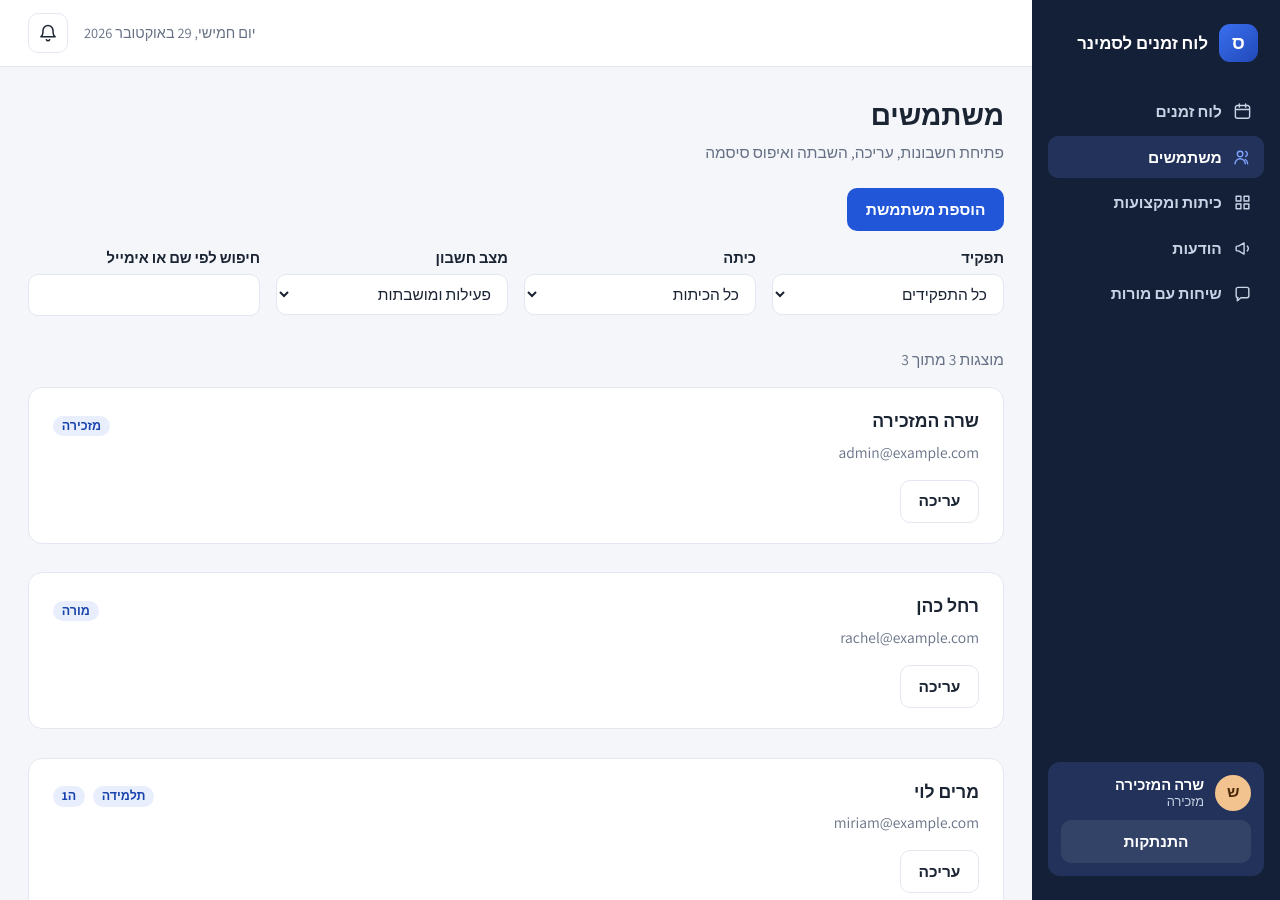
ניהול משתמשים › עריכה › עדכון פרטים, כיתה והשבתה
Expected: the heading "מרים לוי" is shown, [914, 778, 979, 805]
Click the button "עריכה" below "מרים לוי": click(939, 871) [900, 850, 979, 893]
(page scrolled)
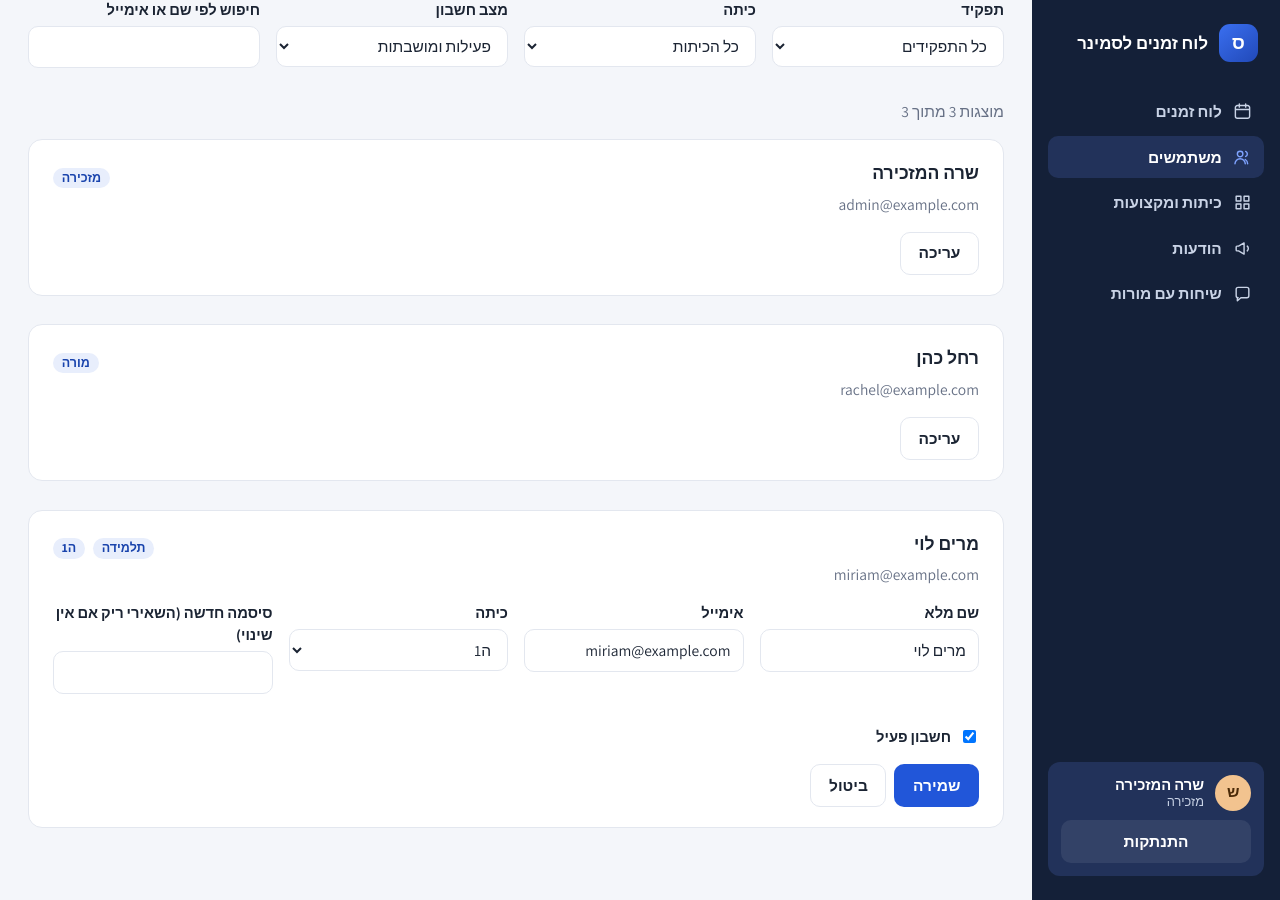
Expected: the field labelled "שם מלא" holds "מרים לוי"
Replace the text in the field labelled "שם מלא" with "מרים כהן": (869, 650) [760, 629, 979, 672]
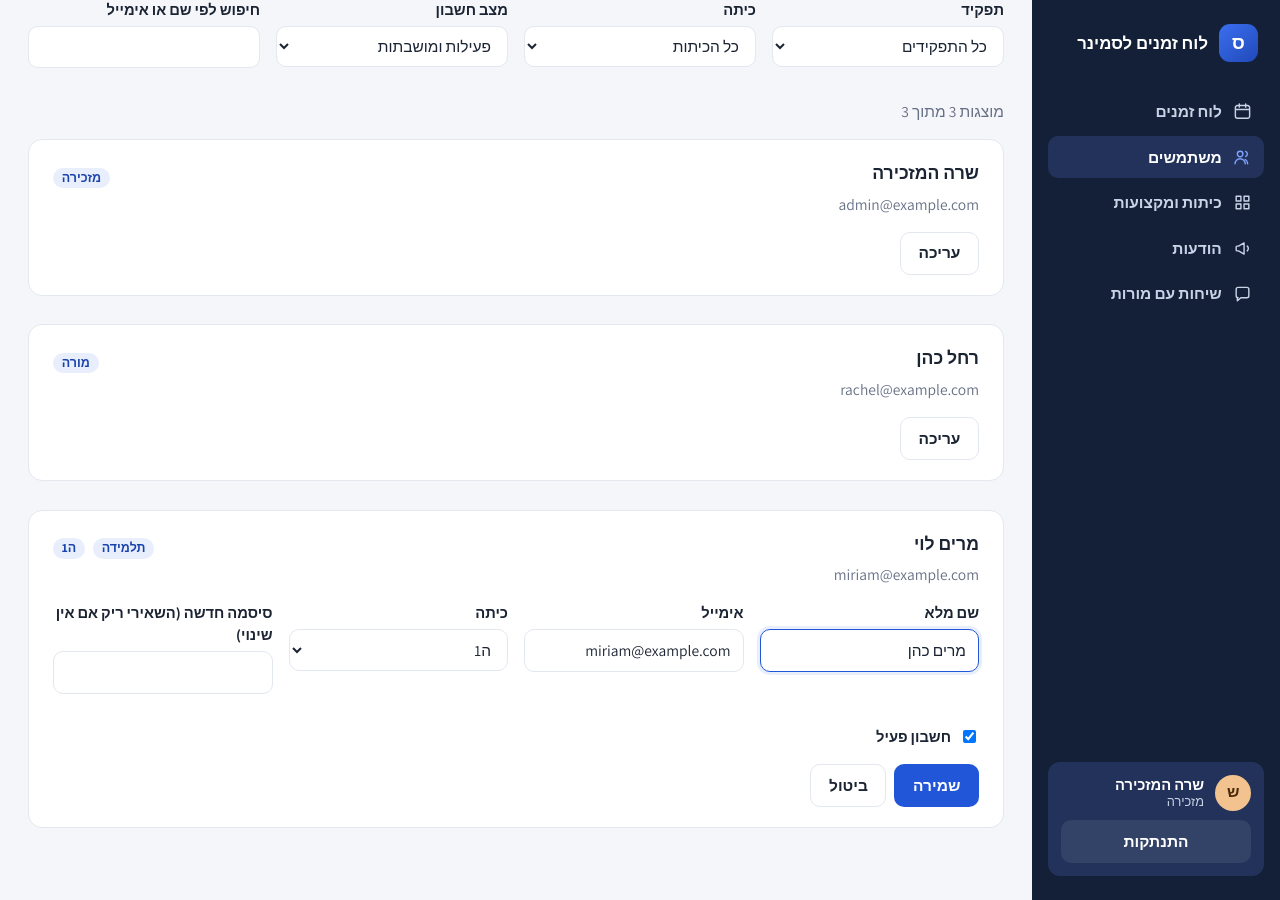
Select "ו1" in the dropdown labelled "כיתה" below "סיסמה חדשה (השאירי ריק אם אין שינוי)": (398, 650) [288, 629, 508, 670]
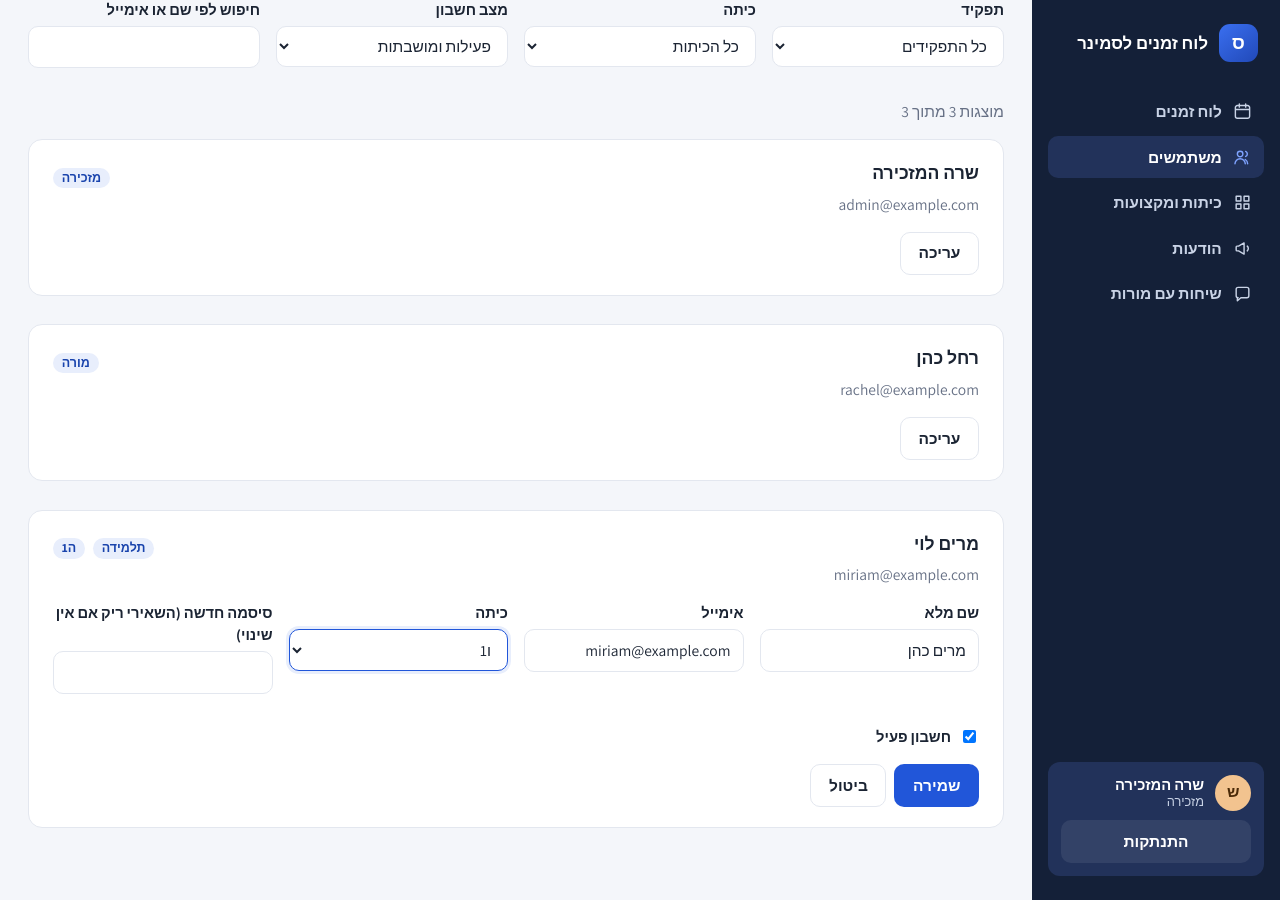
Click the checkbox labelled "חשבון פעיל": click(970, 737) [963, 730, 976, 743]
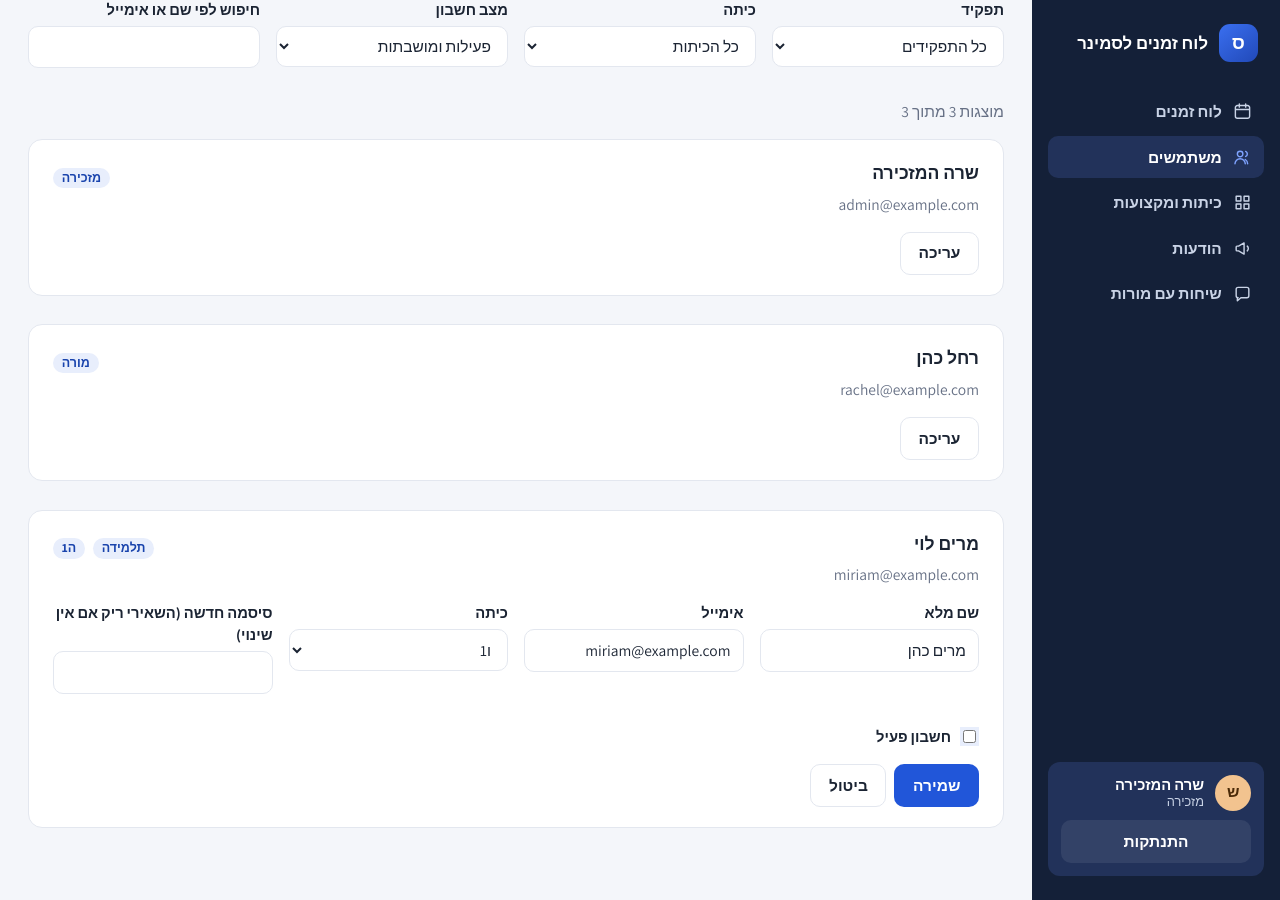
Click the button "שמירה": click(937, 785) [894, 764, 979, 807]
(page scrolled)
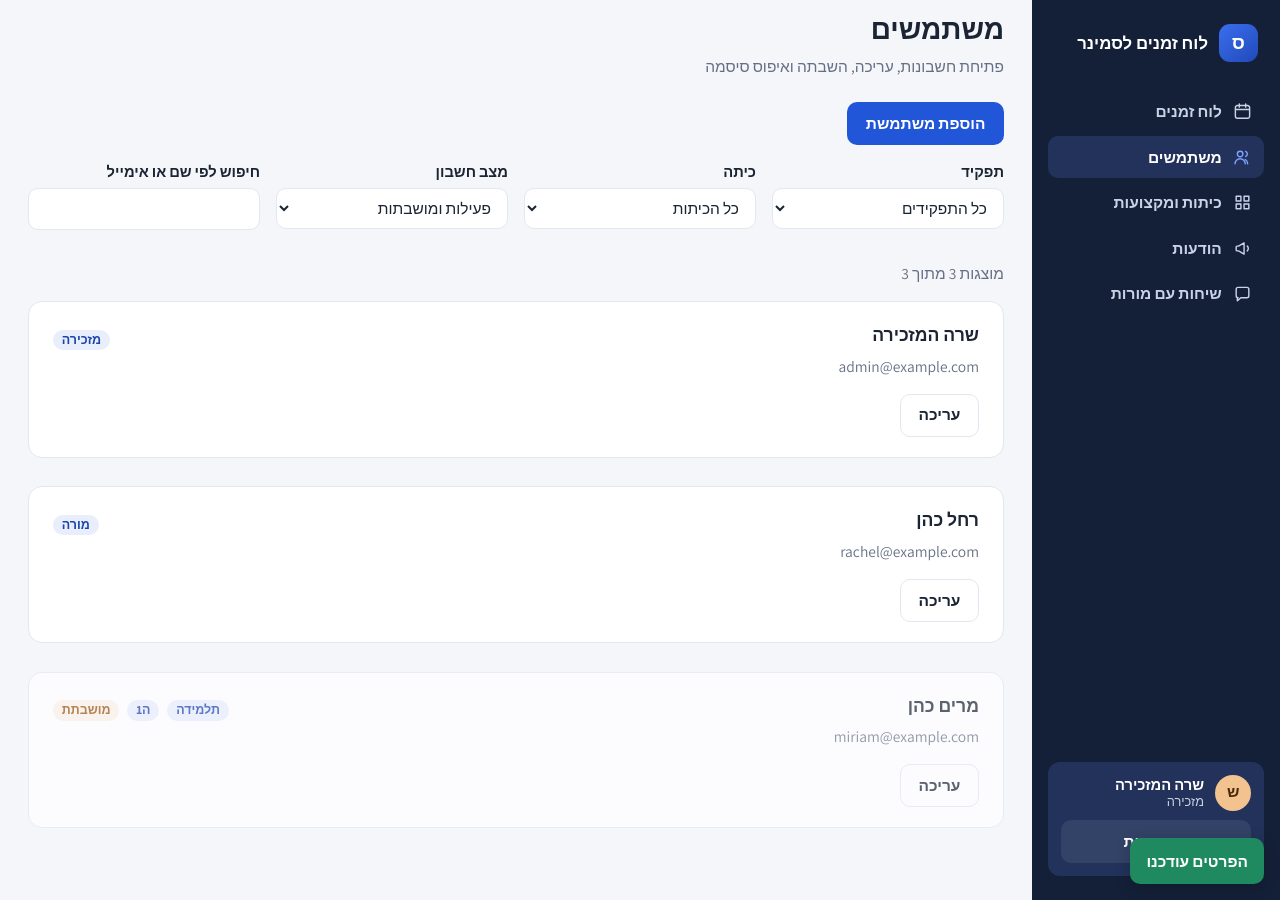
Expected: the text "הפרטים עודכנו" is shown, [1130, 838, 1264, 884]
Expected: the text "מושבתת" is shown, [53, 700, 119, 721]
